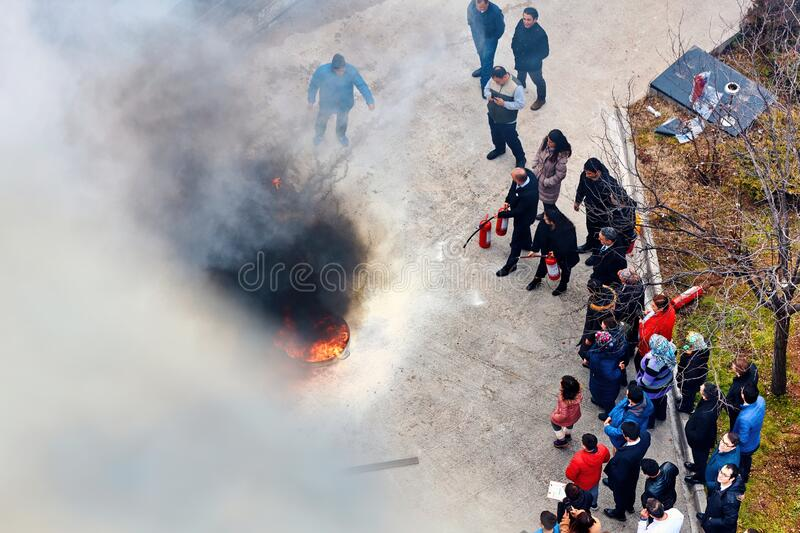fire_extinguisher: (478, 214, 493, 248), (544, 251, 561, 281), (495, 203, 510, 236)
